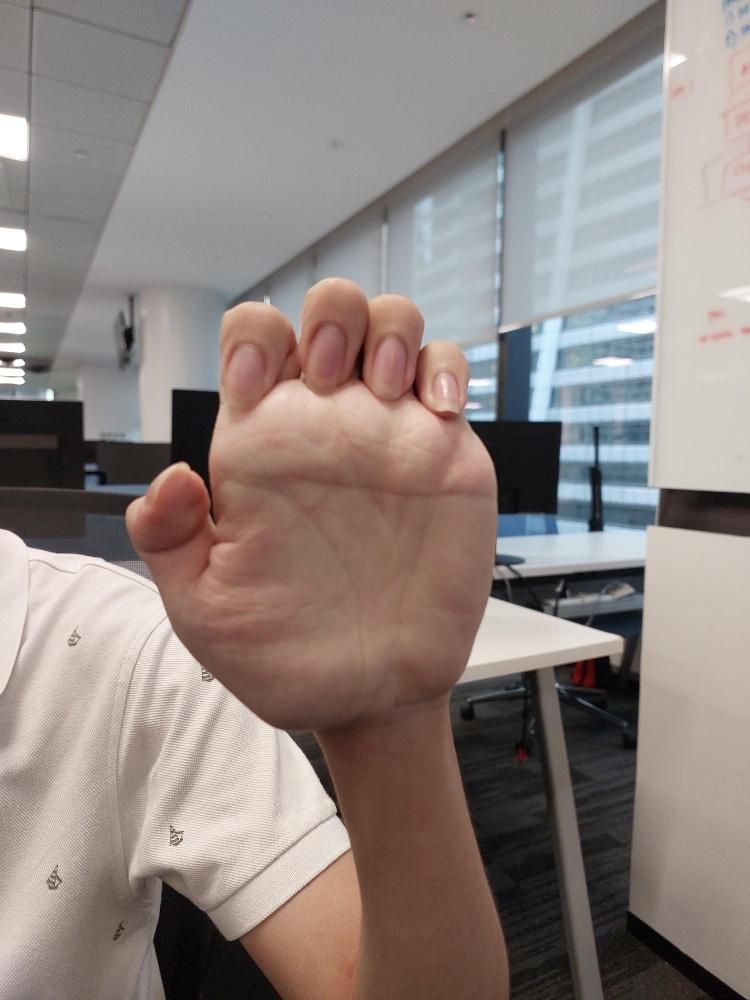e: (124, 271, 496, 736)
